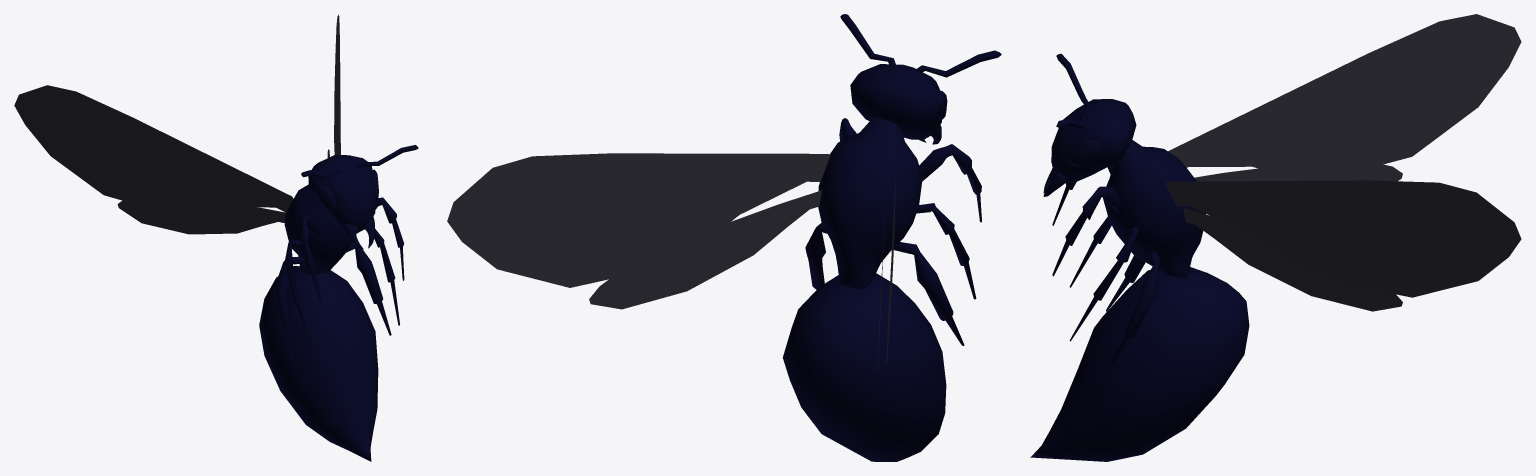
File: wasp.fbx
3 views of the same model, side by side, from view 1: azimuth 30°, elevation 25°; view 2: azimuth 150°, elevation 25°; view 3: azimuth 270°, elevation 25° (orthographic). The views are drawn at different scales.
Parts seen in each view (by area): view 1: Sphere.004, Vert.002, Vert; view 2: Sphere.004, Vert, Vert.002; view 3: Sphere.004, Vert, Vert.002.
Boxes of the visible parts, left/top/right/bottom form: Sphere.004: left=259, top=145, right=418, bottom=461; Vert.002: left=14, top=85, right=293, bottom=234; Vert: left=327, top=14, right=340, bottom=157; Sphere.004: left=782, top=14, right=1001, bottom=461; Vert: left=447, top=153, right=830, bottom=309; Vert.002: left=877, top=173, right=895, bottom=372; Sphere.004: left=1030, top=53, right=1249, bottom=461; Vert: left=1165, top=180, right=1521, bottom=311; Vert.002: left=1168, top=14, right=1521, bottom=181.
Bounding box in the file's own units: 128 × 112 × 135.
